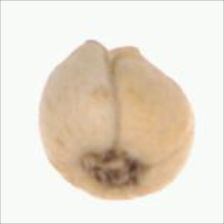L3: (84, 38, 145, 63)
L4: (39, 40, 194, 200)
